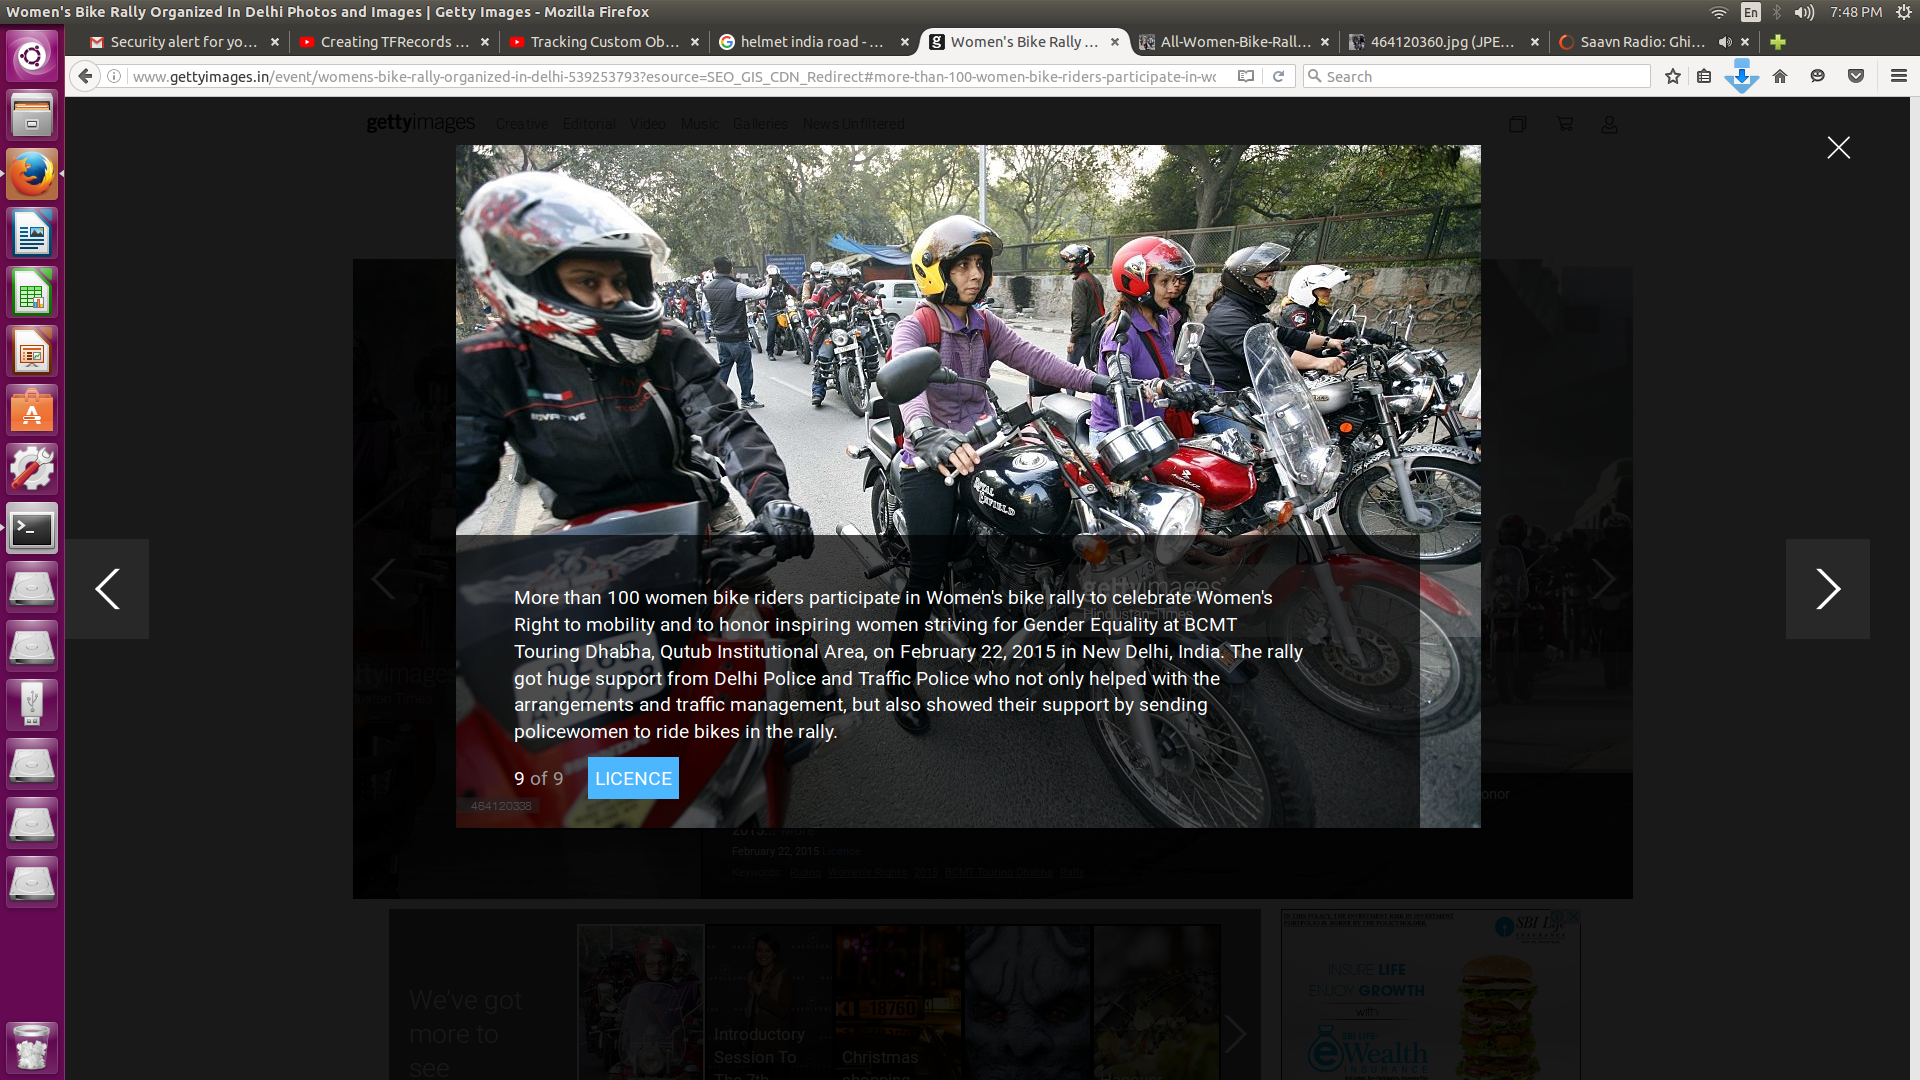helmet: (462, 173, 688, 378), (909, 223, 1021, 315), (1117, 236, 1203, 316), (1232, 233, 1290, 299)
